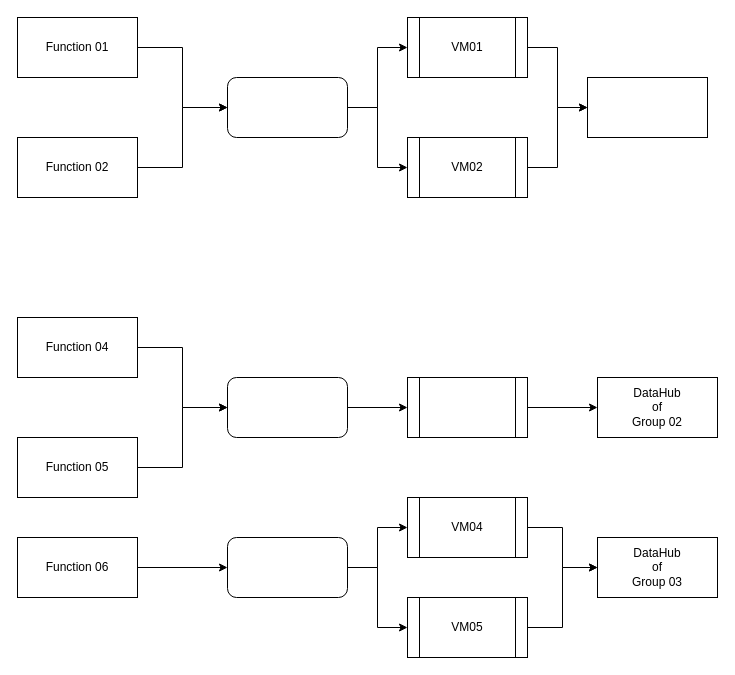
This 735x675 diagram has some shape labels left out. Each missing label, with the centre of its shape:
DataHub of Group01: pixel 647 107
Group 01: pixel 287 107
Group 02: pixel 287 407
Group 03: pixel 287 567
VM03: pixel 467 407
